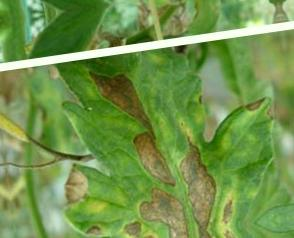Tomato leaf bacterial spot: (40, 42, 294, 238)
